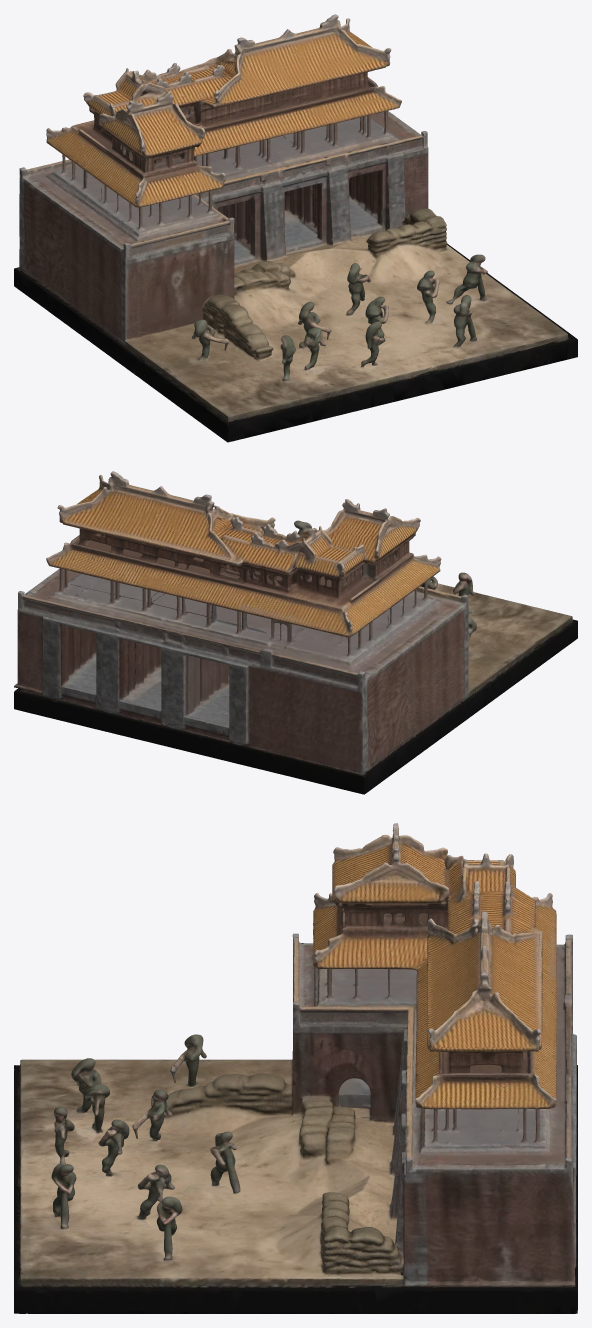
Rendered from chien_dich_hue_da_nang.glb.
3 renders of one model, top to bottom at view 1: azimuth 30°, elevation 25°; view 2: azimuth 150°, elevation 25°; view 3: azimuth 270°, elevation 25°, orthographic. The views are drawn at different scales.
Size of the model in its own units: 1.8 by 1.11 by 1.9.
Materials: 1 (1 with a texture image).
